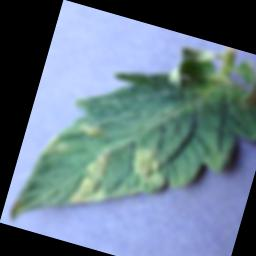Leaf_Mold: (66, 142, 123, 214), (122, 141, 174, 199), (41, 130, 75, 163), (77, 119, 105, 140)
